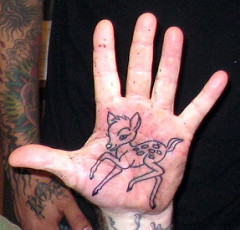palm: (82, 109, 186, 195)
